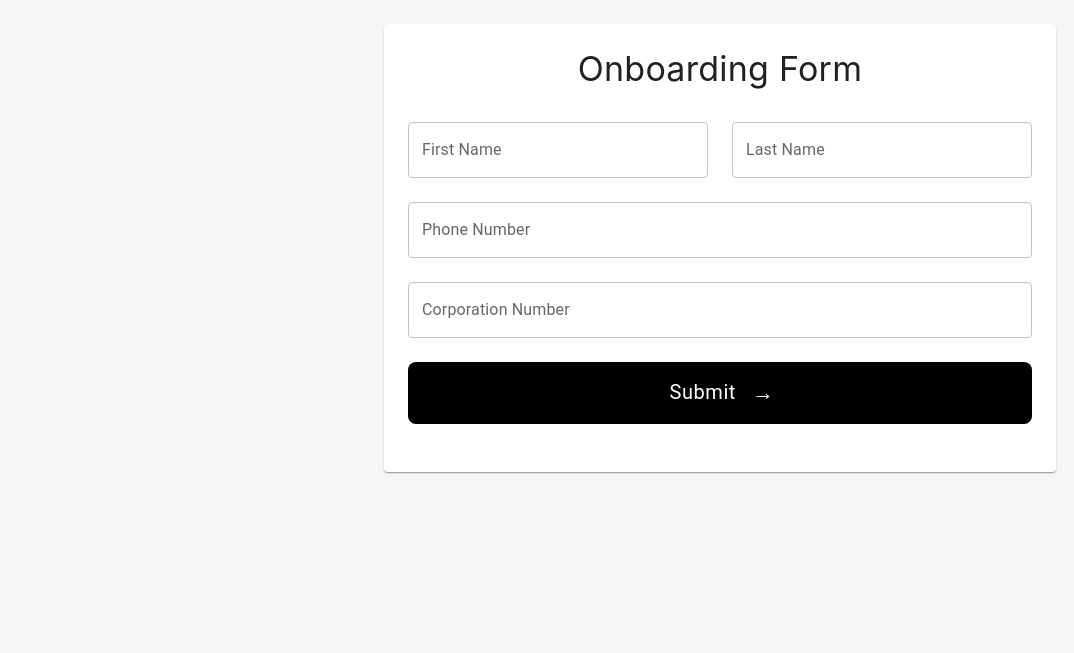
Test: OnboardingForm › submits form with valid data
In the field labelled "First Name": (558, 150) [408, 122, 708, 178], type "John"
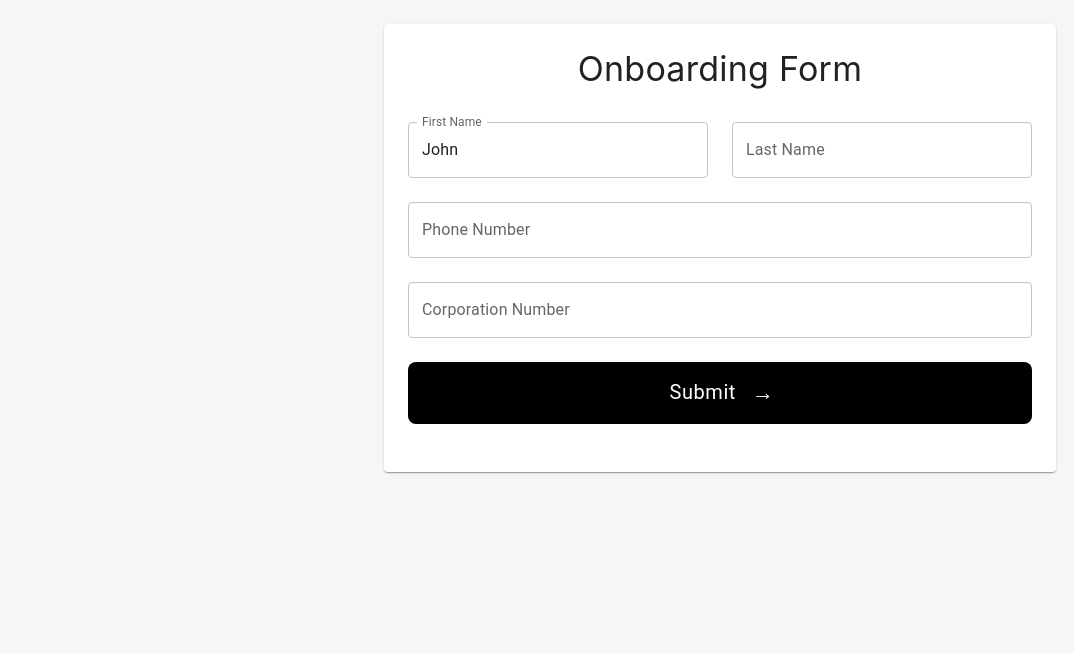
In the field labelled "Last Name": (882, 150) [732, 122, 1032, 178], type "Doe"
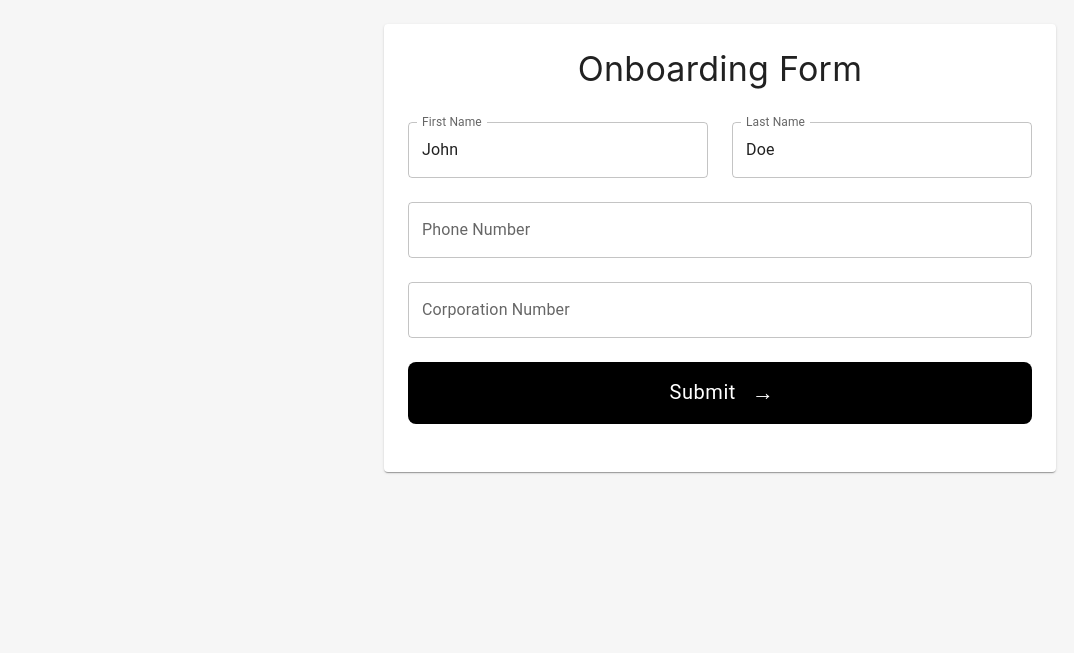
In the field labelled "Phone Number": (720, 230) [408, 202, 1032, 258], type "+11234567890"
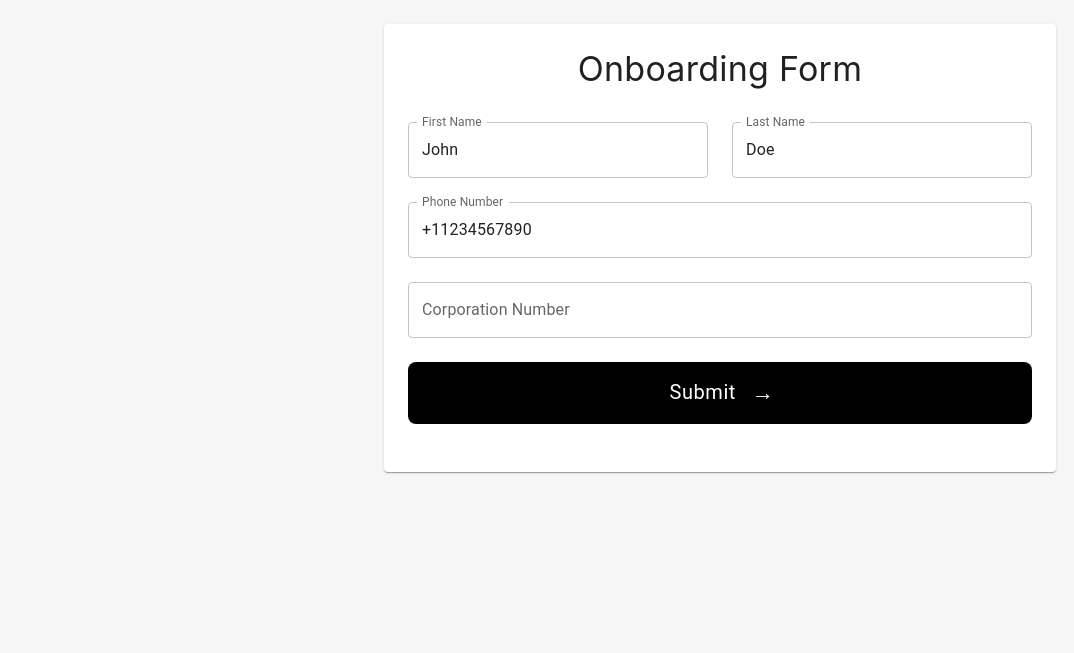
In the field labelled "Corporation Number": (720, 310) [408, 282, 1032, 338], type "123456789"
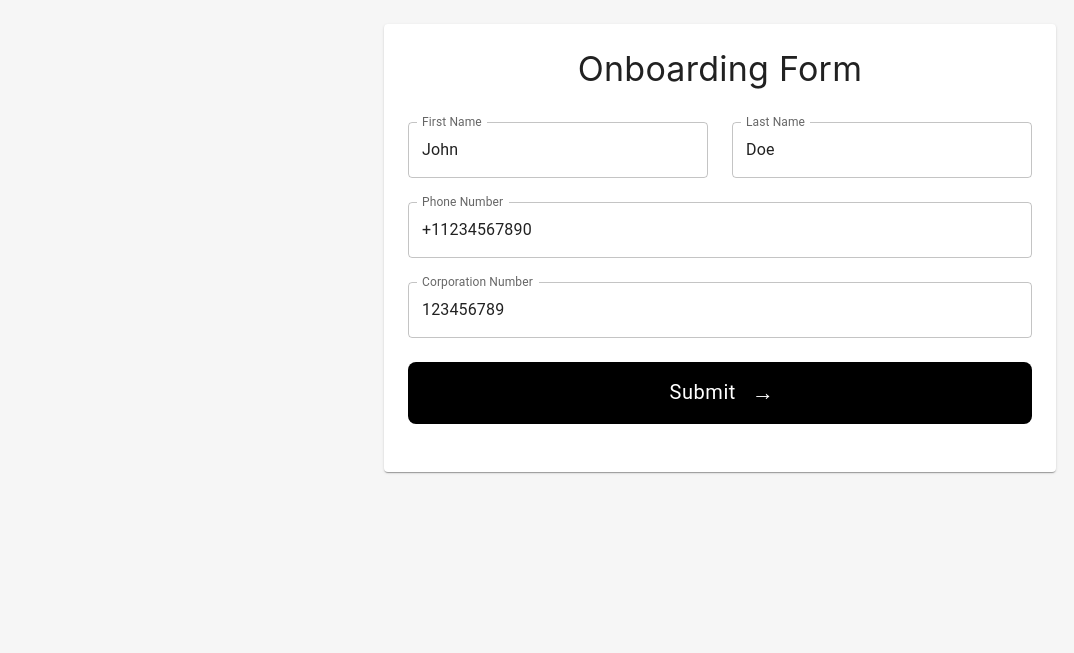
Leave the field labelled "Corporation Number", box [408, 282, 1032, 338]
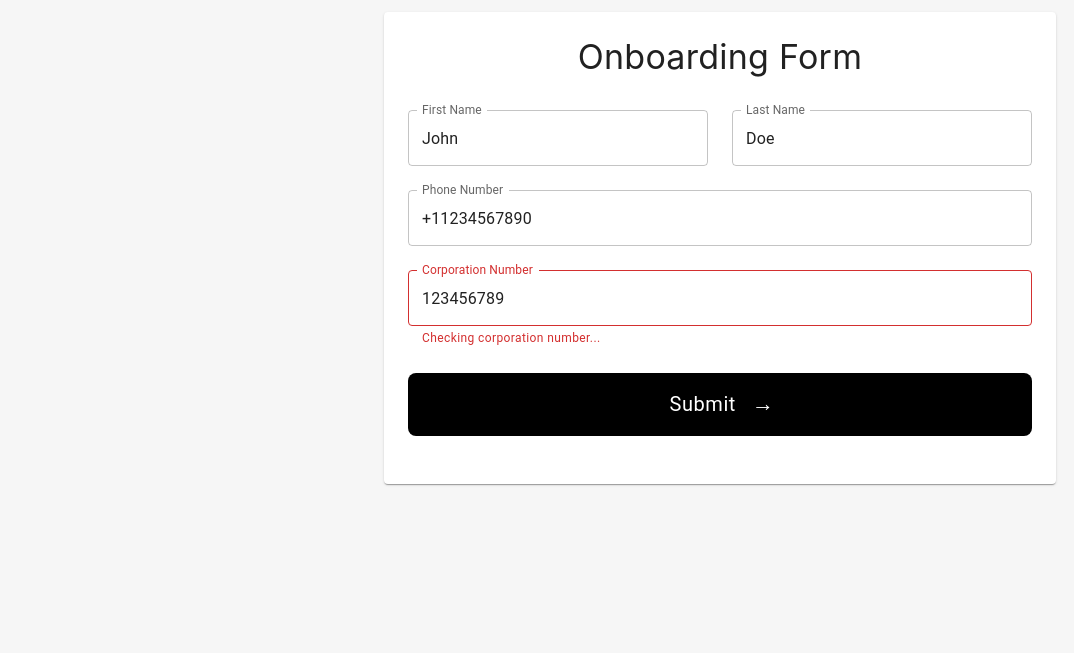
Check: the text "Checking corporation number..." is shown, box [422, 331, 600, 345]
Click the button "Submit →": (720, 404) [408, 373, 1032, 436]
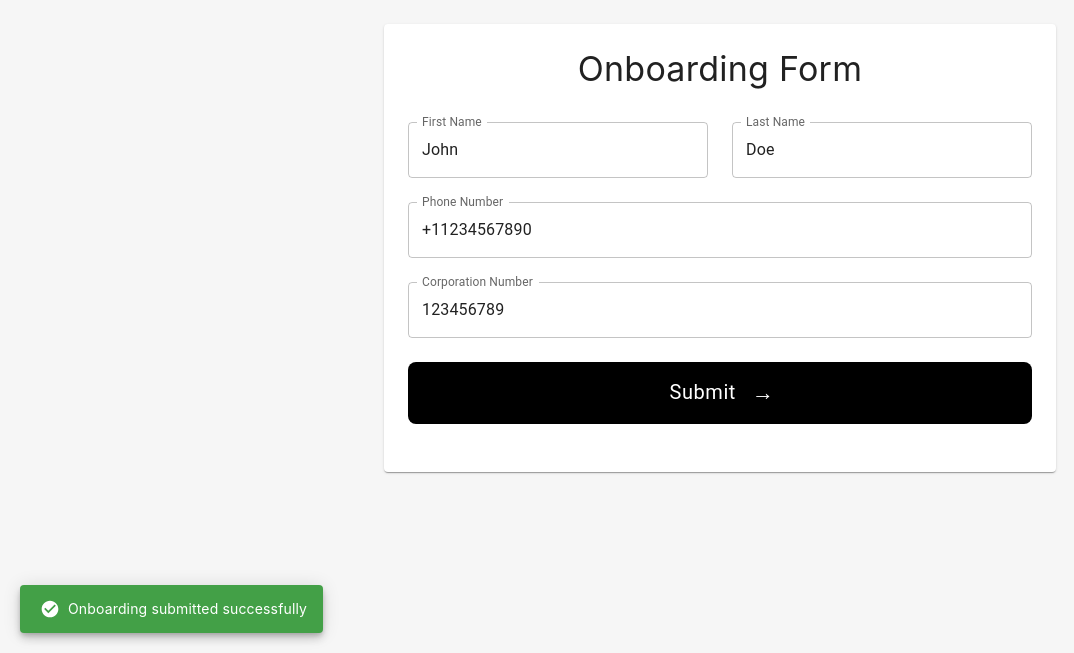
Check: the text "Onboarding submitted successfully" is shown, box [40, 599, 307, 619]
